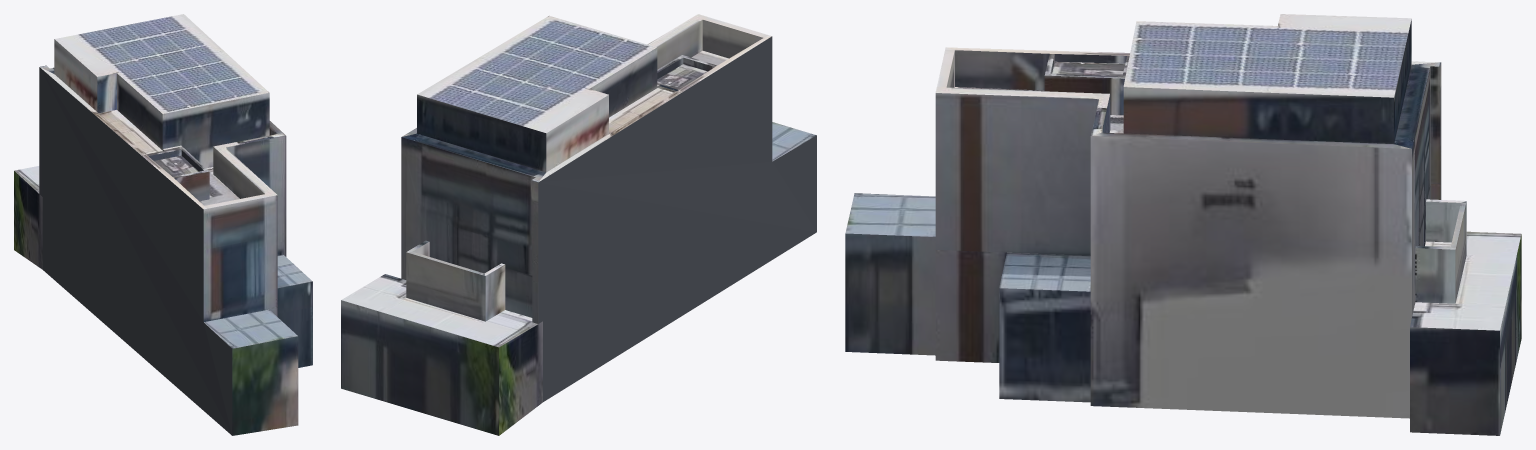
3 renders of one model, left to right at view 1: azimuth 30°, elevation 25°; view 2: azimuth 150°, elevation 25°; view 3: azimuth 270°, elevation 25°, orthographic. The views are drawn at different scales.
Visible parts, largest first — view 1: B284404037601062A0; view 2: B284404037601062A0; view 3: B284404037601062A0.
Part boxes in pixels (box(x1,y1,x2,y2)): B284404037601062A0: box(14, 14, 312, 435); B284404037601062A0: box(341, 14, 816, 435); B284404037601062A0: box(845, 14, 1521, 435).
Bounding box in the file's own units: 8.55 × 10.77 × 20.61.
Materials: 1 (1 with a texture image).
